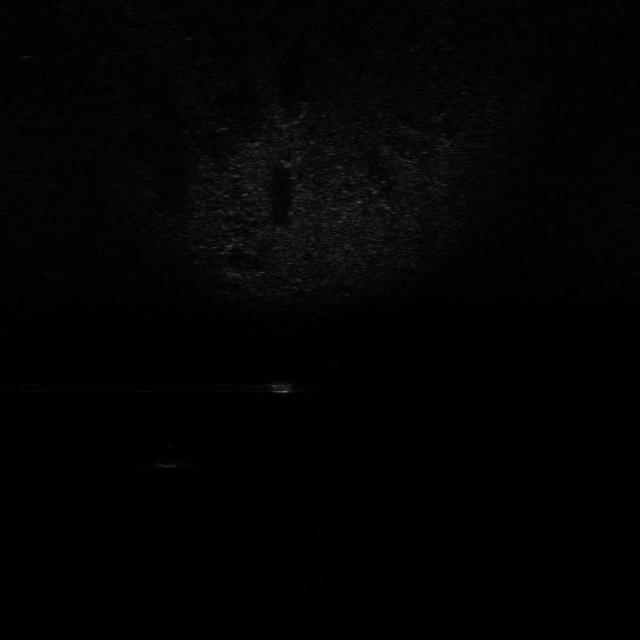ball: (152, 442, 188, 470)
cube: (263, 375, 297, 398)
